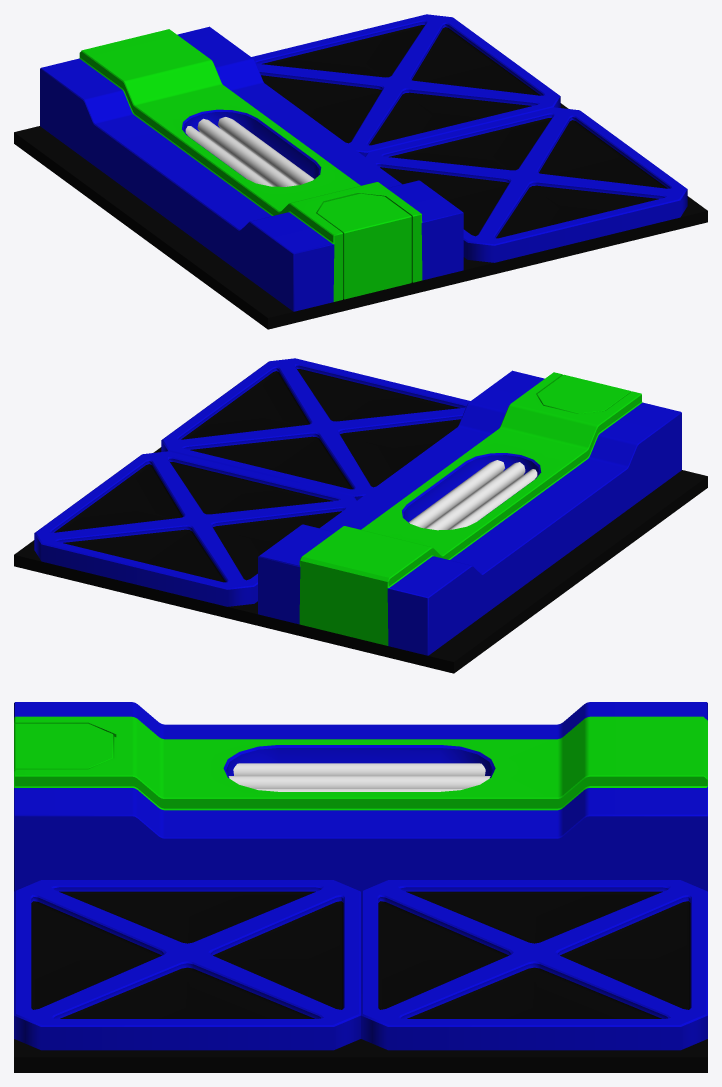
Rendered from SciFiPanel_01.fbx.
3 renders of one model, top to bottom at view 1: azimuth 30°, elevation 25°; view 2: azimuth 150°, elevation 25°; view 3: azimuth 270°, elevation 25°, orthographic. The views are drawn at different scales.
Visible parts, largest first — view 1: SciFiPanel_01, EmmisionPipes; view 2: SciFiPanel_01, EmmisionPipes; view 3: SciFiPanel_01, EmmisionPipes.
Boxes of the visible parts, left/top/right/bottom form: SciFiPanel_01: left=14, top=14, right=707, bottom=329; EmmisionPipes: left=185, top=117, right=313, bottom=186; SciFiPanel_01: left=14, top=358, right=707, bottom=673; EmmisionPipes: left=408, top=460, right=537, bottom=530; SciFiPanel_01: left=14, top=702, right=707, bottom=1072; EmmisionPipes: left=228, top=763, right=490, bottom=791.
Bounding box in the file's own units: 4 × 0.6811 × 4.
